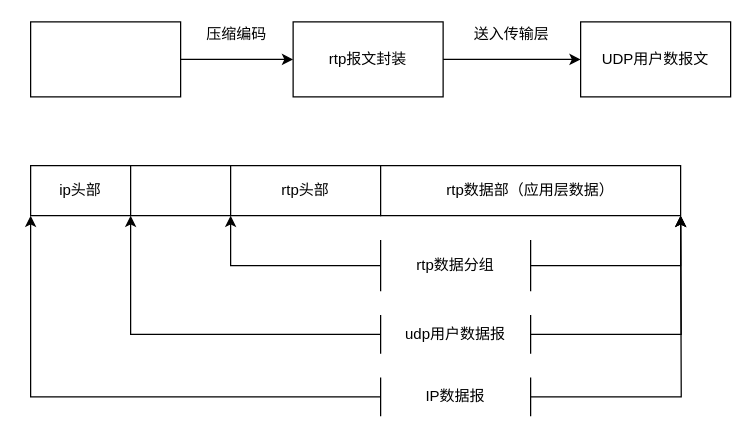
This 753x438 diagram has some shape labels left out. The shapes that lost their labels are listed below. From the top down, each one's box as (x1, y1, x2, y2) in pixels, then its label:
(29, 21, 181, 97): 多媒体数据
(129, 164, 231, 216): udp头部
